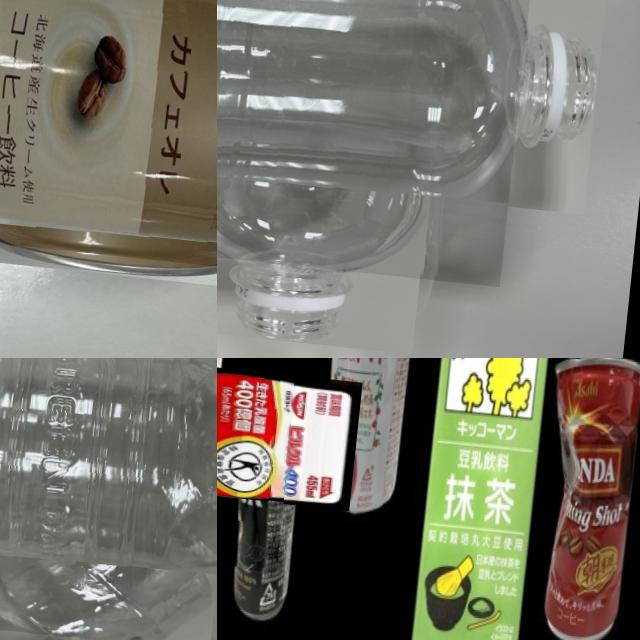Aluminium Foil: (401, 358, 564, 640), (217, 358, 303, 572)
Can: (0, 0, 217, 272), (531, 358, 640, 640), (217, 411, 310, 612), (311, 358, 422, 518)
Transparent Plastic Bottle: (217, 0, 542, 287), (0, 358, 217, 640)
